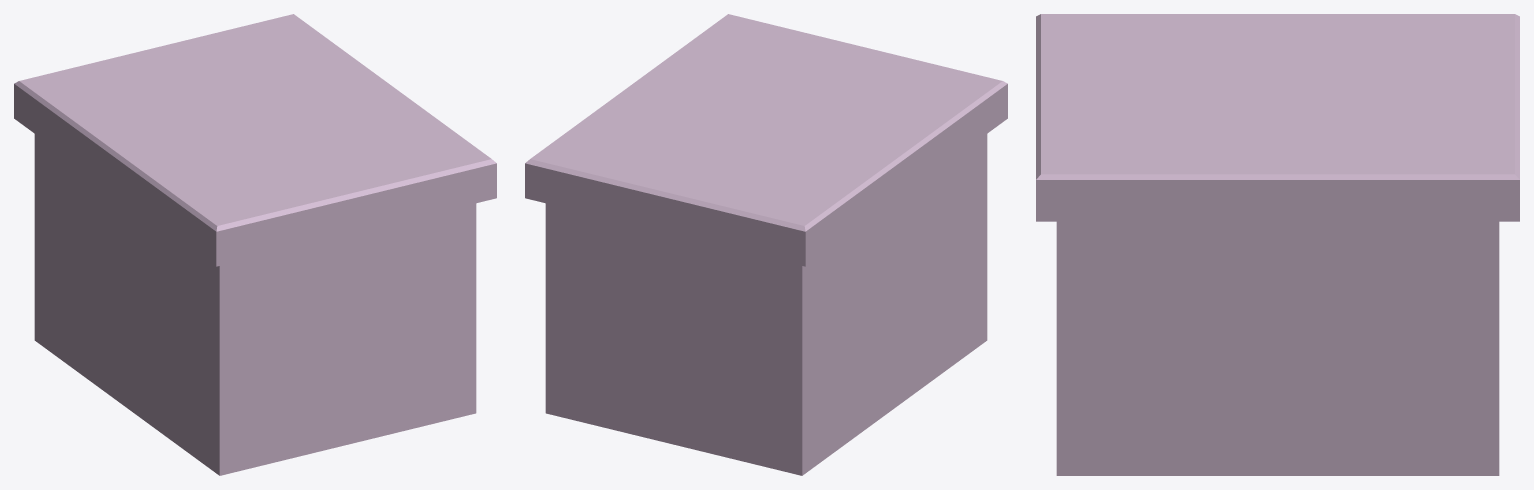
Rendered from prop_storage_box_2.fbx.
3 views of the same model, side by side, from view 1: azimuth 30°, elevation 25°; view 2: azimuth 150°, elevation 25°; view 3: azimuth 270°, elevation 25° (orthographic). The views are drawn at different scales.
Parts seen in each view (by area): view 1: caja almacenamiento 2; view 2: caja almacenamiento 2; view 3: caja almacenamiento 2.
Part boxes in pixels (<box>): caja almacenamiento 2: <box>14,14,496,475</box>; caja almacenamiento 2: <box>525,14,1007,475</box>; caja almacenamiento 2: <box>1036,14,1519,475</box>.
Size of the model in its own units: 40 by 35 by 50.
